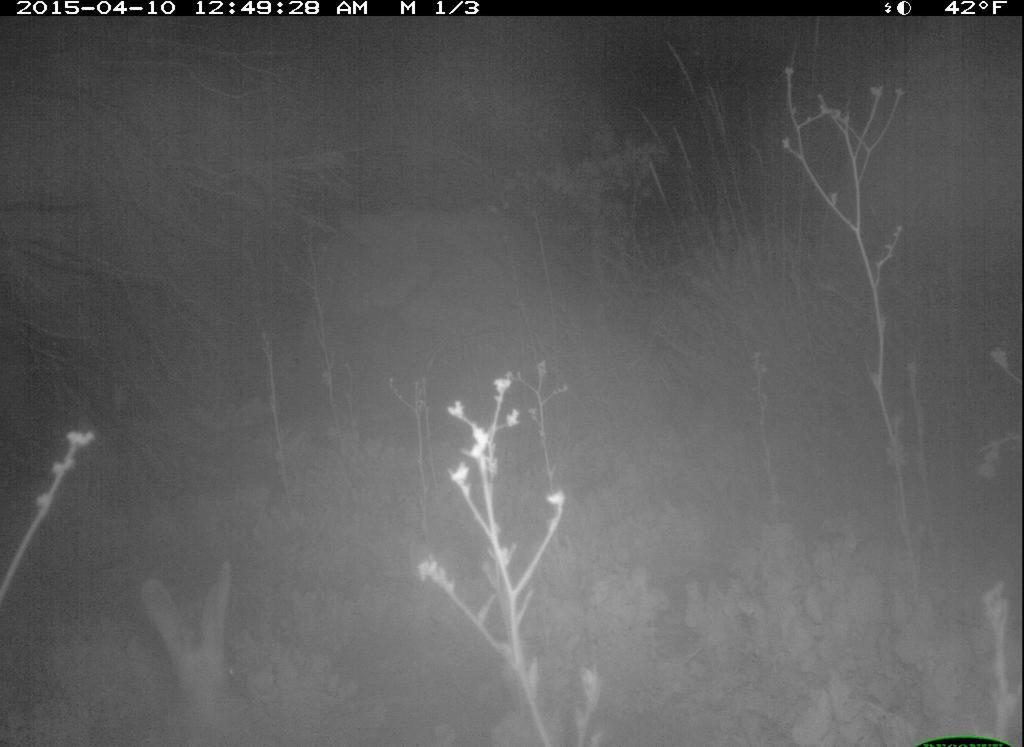rabbit: (114, 545, 257, 738)
